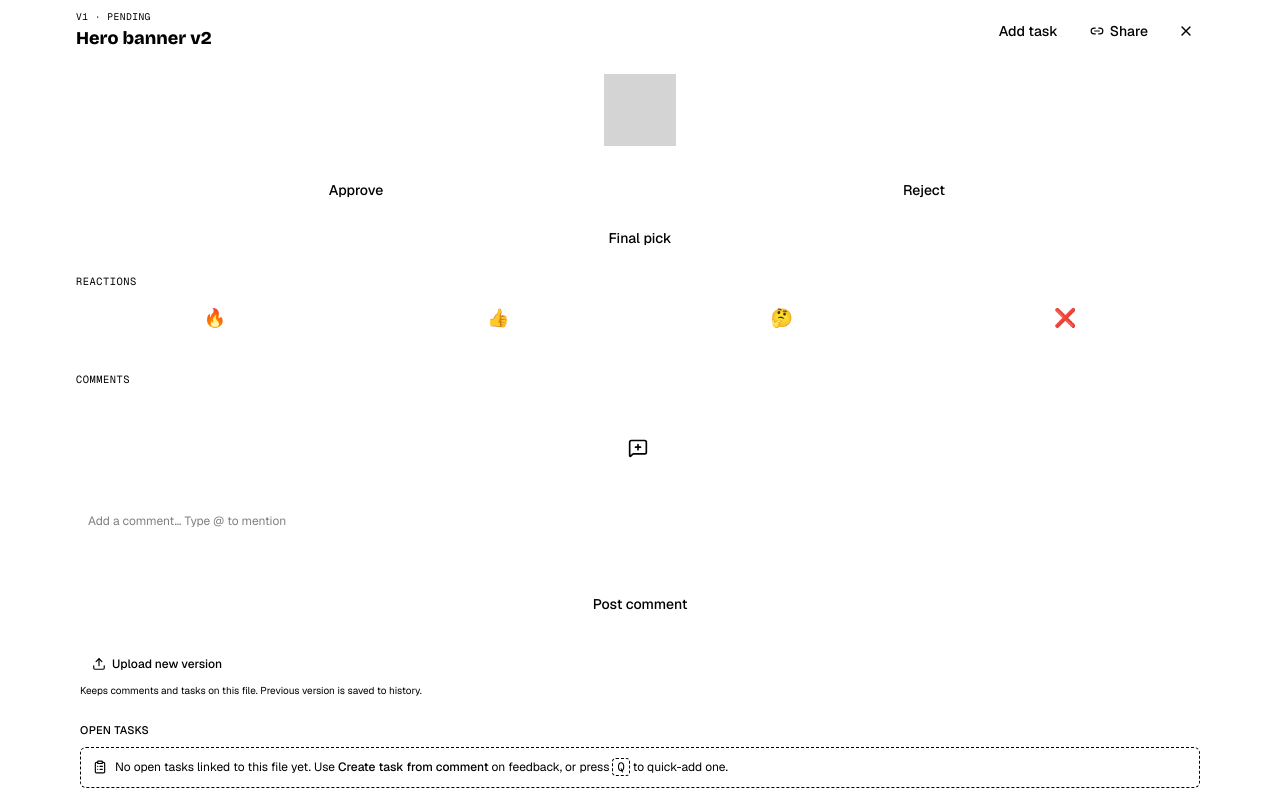
AssetDetailOverlay › opens the share dialog when Share is clicked
Click the button "Share": click(1119, 31) [1078,15,1160,47]
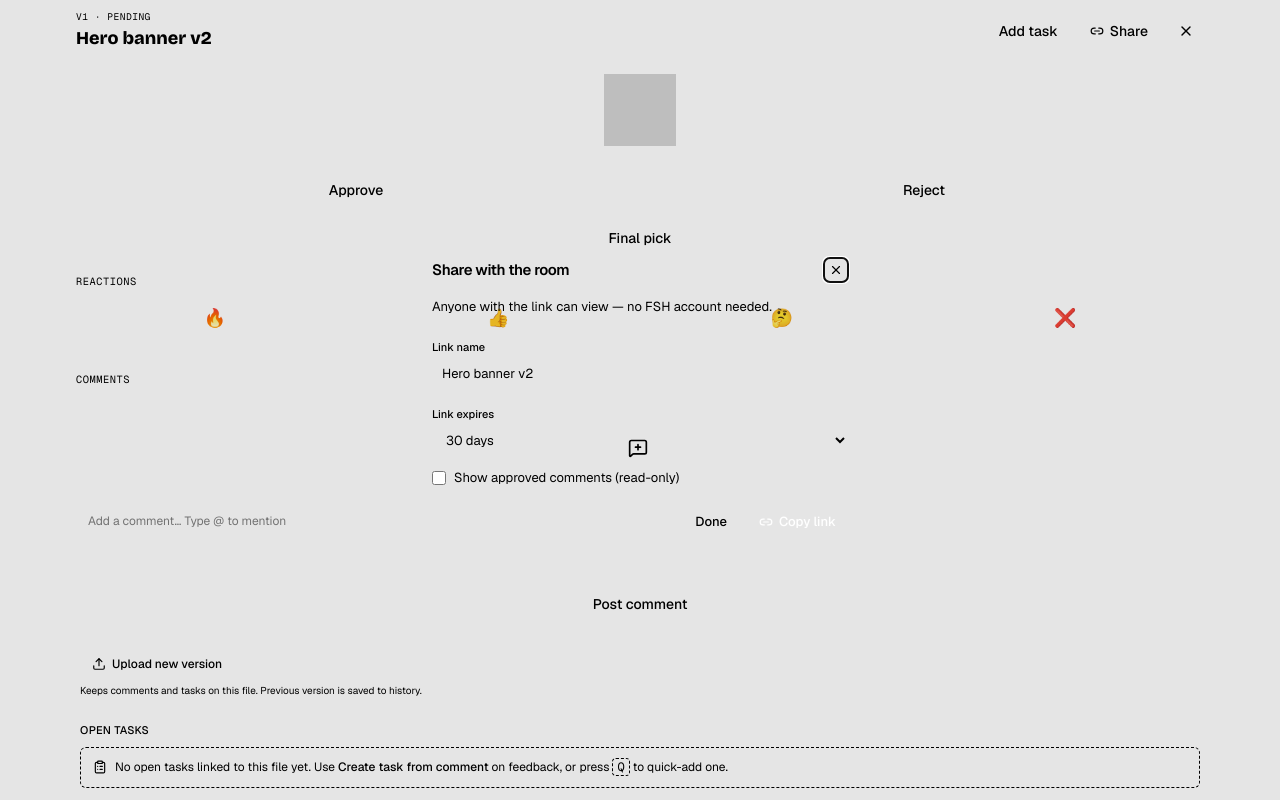
Now the heading "Share with the room" is shown, box [432,260,569,279]
